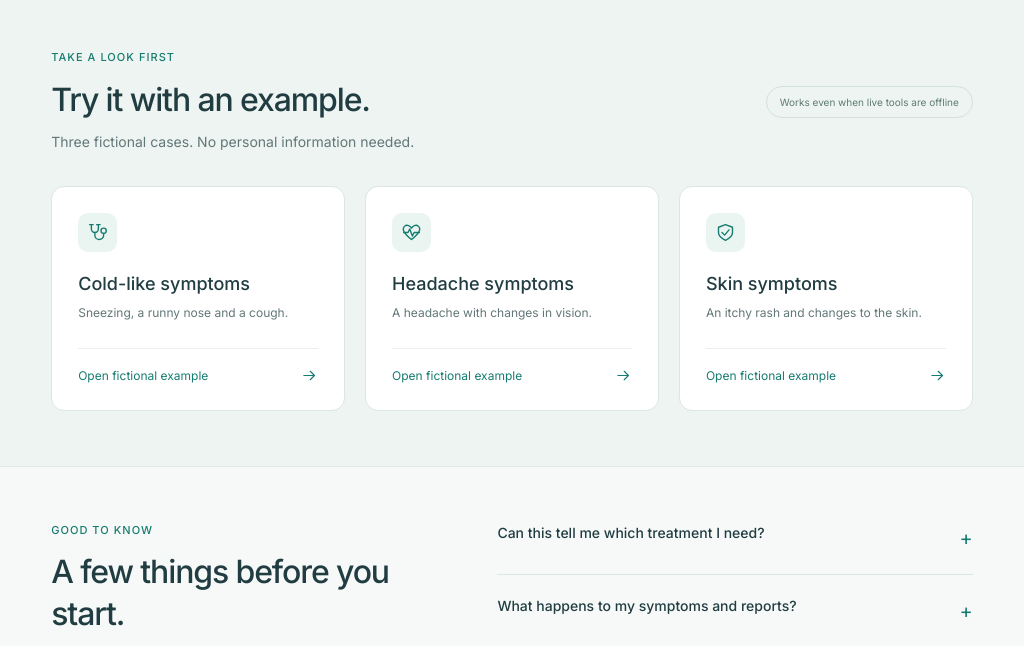
simple healthcare entry points › opens an offline example with technical explanations collapsed
This screenshot has width=1024, height=646.
(page scrolled)
Click the link "Cold-like symptoms". click: x=98, y=233
box: [51,186,345,411]
(page scrolled)
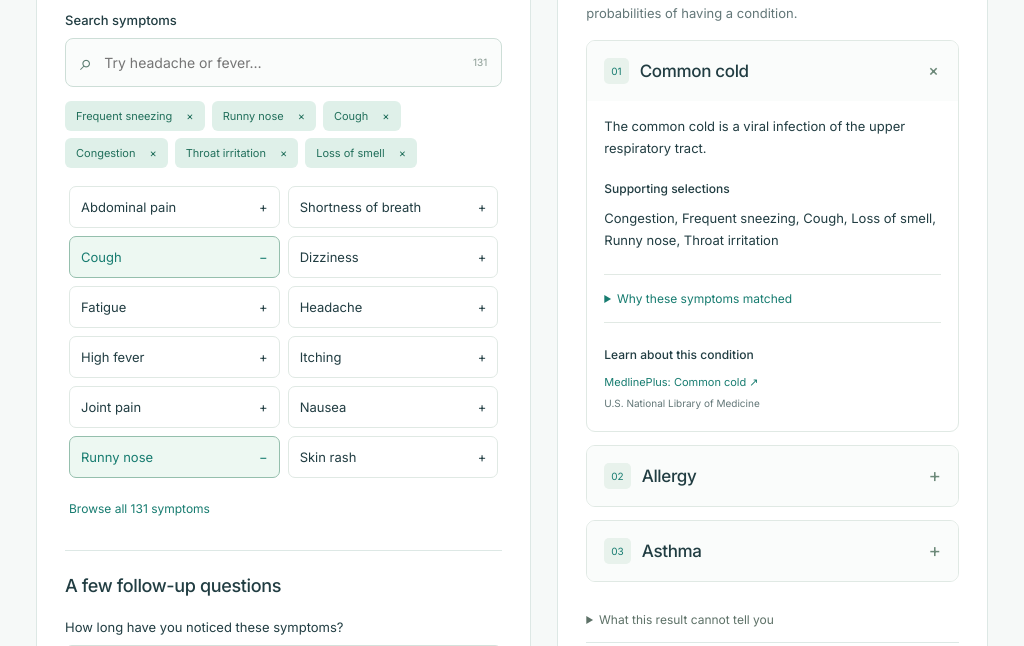
Expected: the text "Largest SHAP contributions" is not shown
Now the text "Common cold" is shown, box [640,61,749,81]
Click the heading "Why these symptoms matched". click: x=705, y=298
box: [617,290,792,306]
(page scrolled)
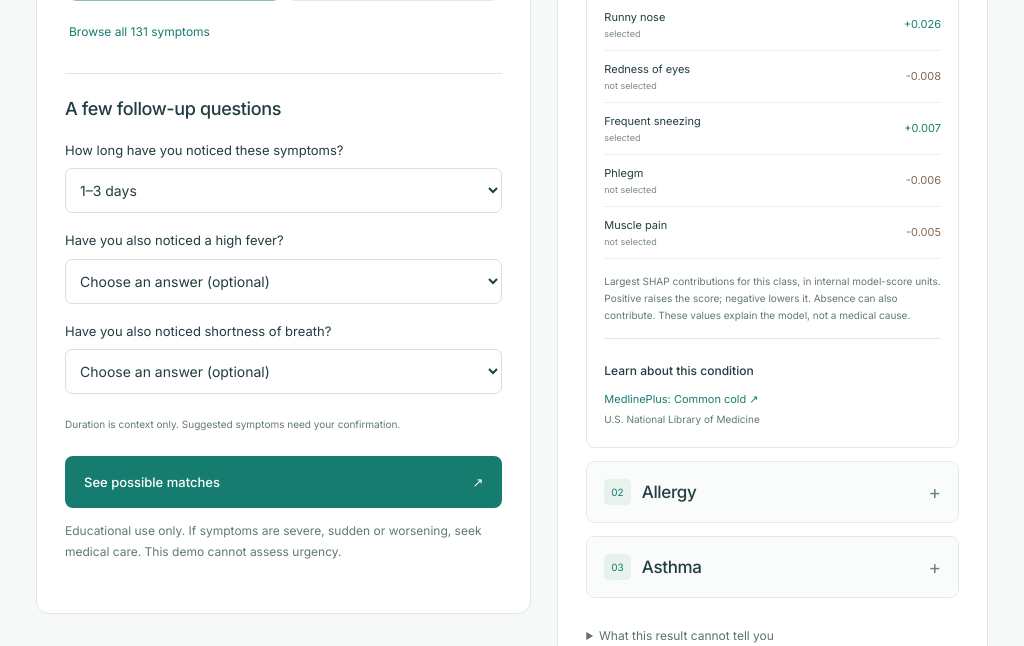
Now the text "Largest SHAP contributions" is shown, box [604,275,941,321]
